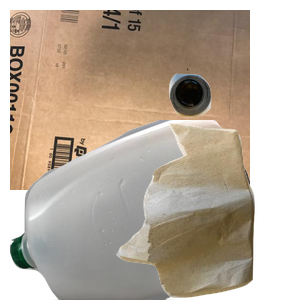cardboard: (10, 10, 250, 190)
glass: (166, 71, 300, 181)
plastic: (10, 120, 250, 300)
trash: (114, 121, 300, 300)
